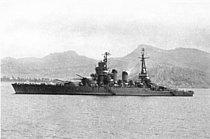MIL_Ship: (11, 49, 196, 98)
